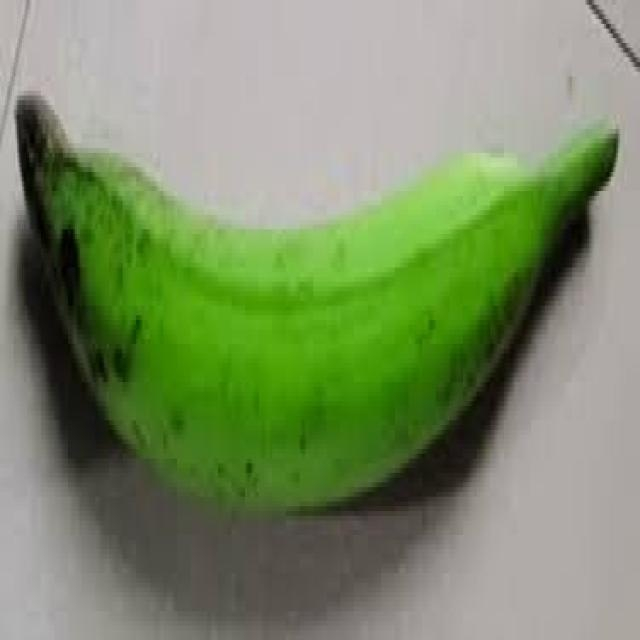agrume: (12, 85, 620, 519)
